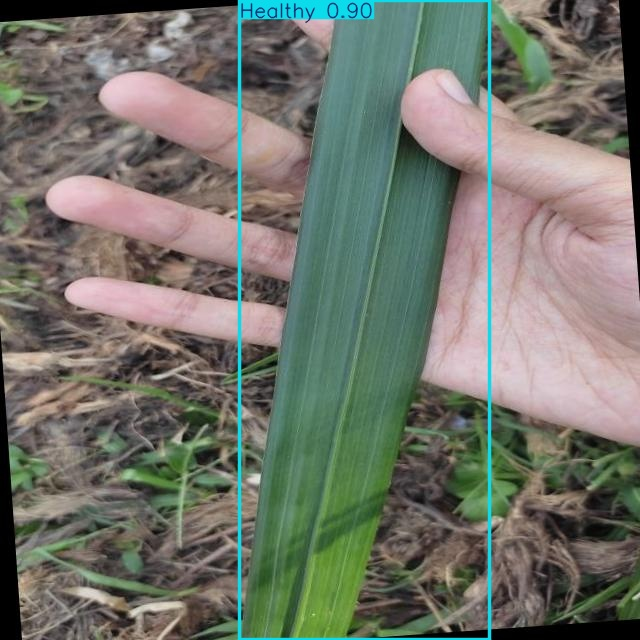Healthy: (239, 0, 489, 639)
